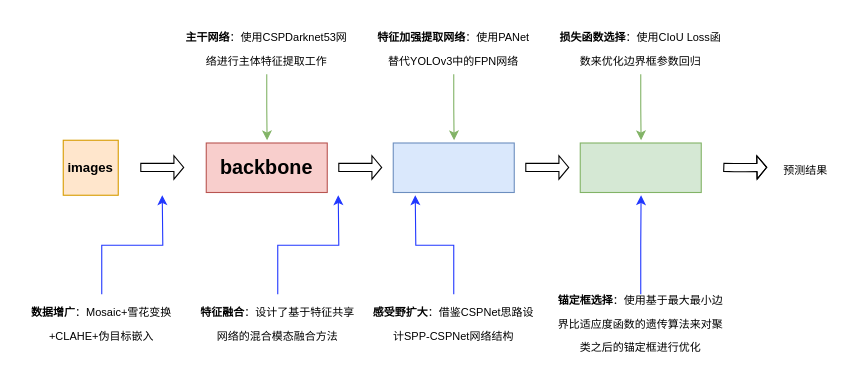
The diagram is 851 pixels wide and 376 high, and some of its shapes have lost their labels. The centre of each missing label's shape, as x and y in pixels:
head: (x=640, y=167)
neck: (x=453, y=167)
